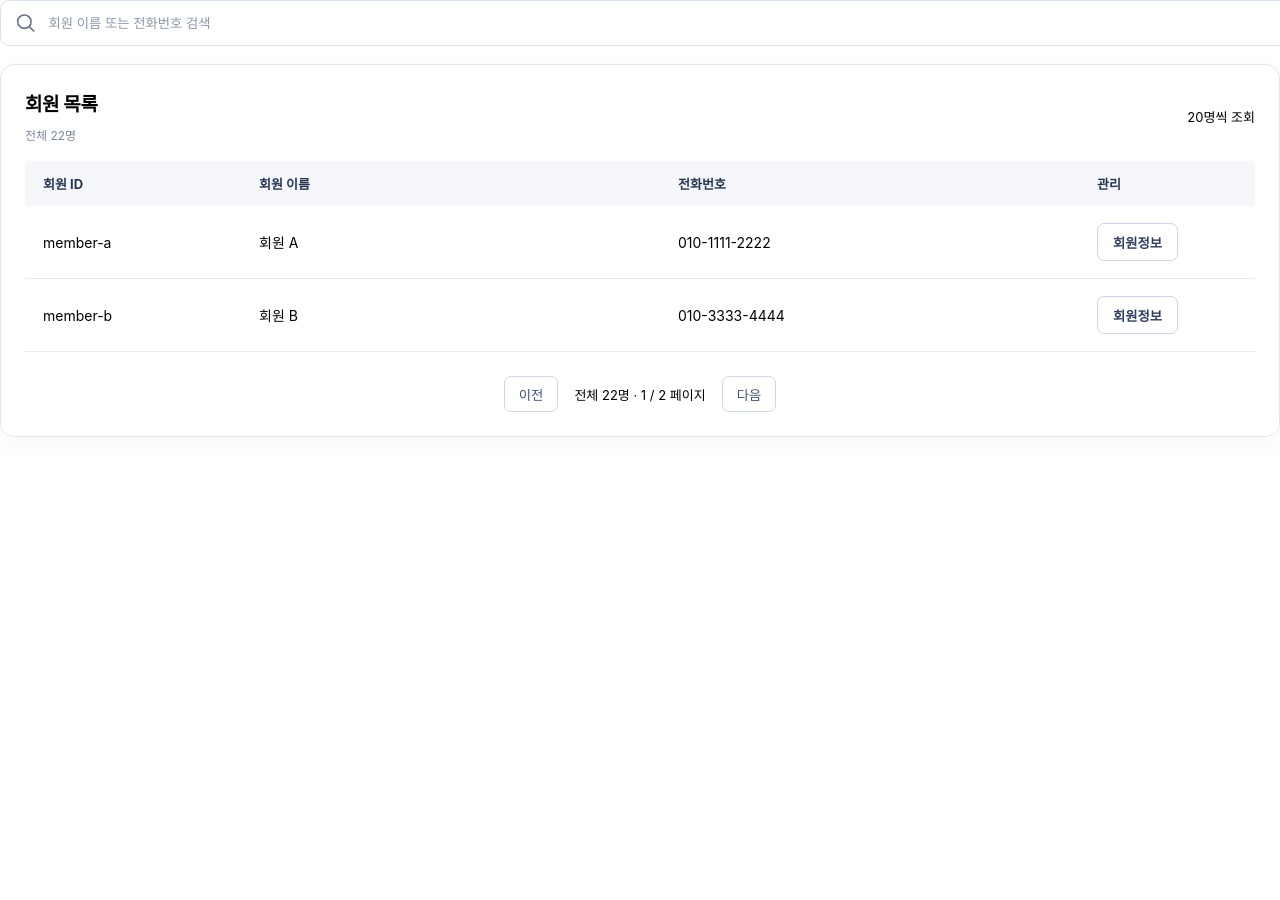
Test case: requests the selected user learning summary and renders cumulative time and section counts
Click the button "회원정보" in the row of "member-a": (1138, 242) left=1097, top=223, right=1178, bottom=261
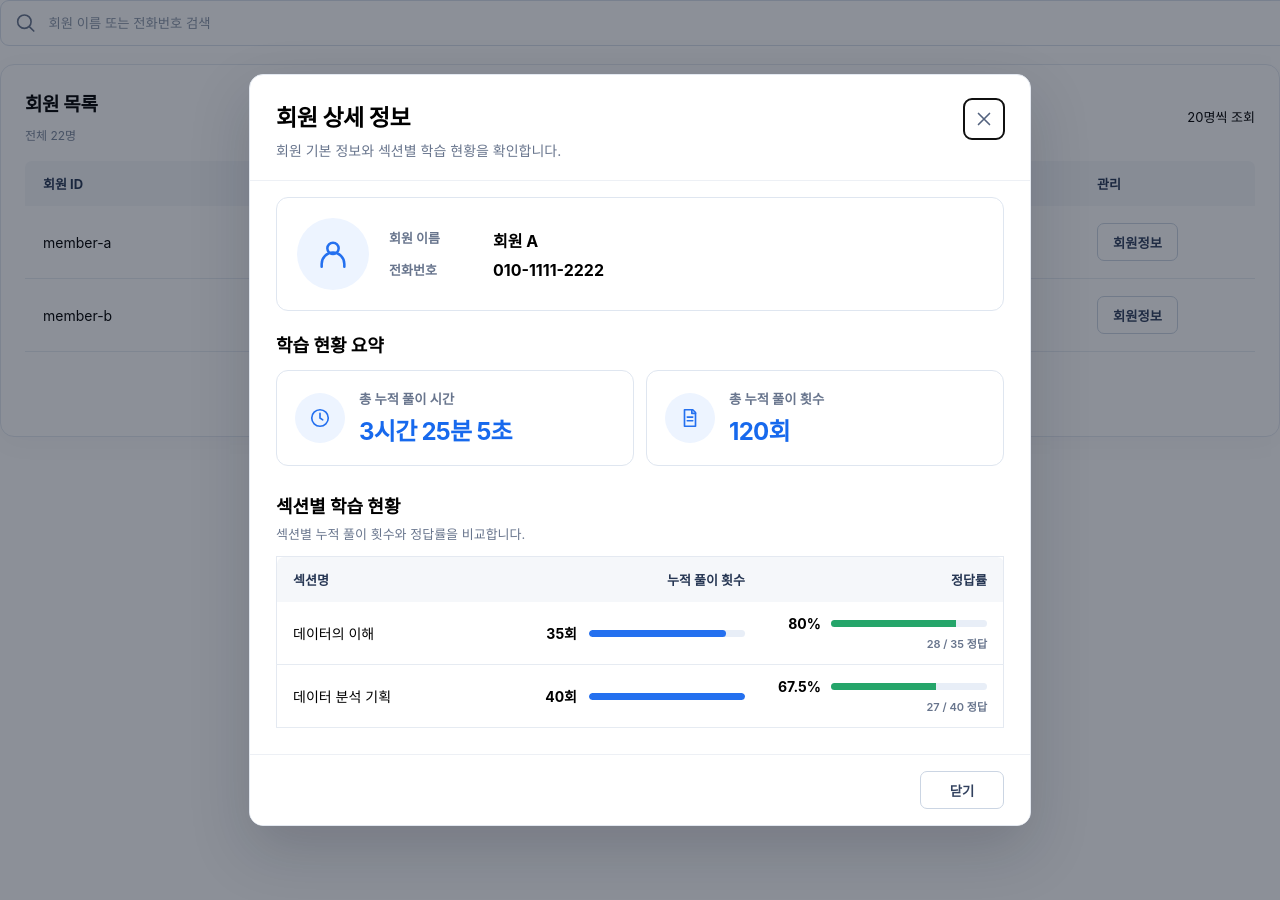
Expected: the text "3시간 25분 5초" is shown, left=359, top=412, right=512, bottom=447
Expected: the text "120회" is shown, left=729, top=417, right=790, bottom=446
Expected: the text "35회" is shown, left=546, top=625, right=577, bottom=642
